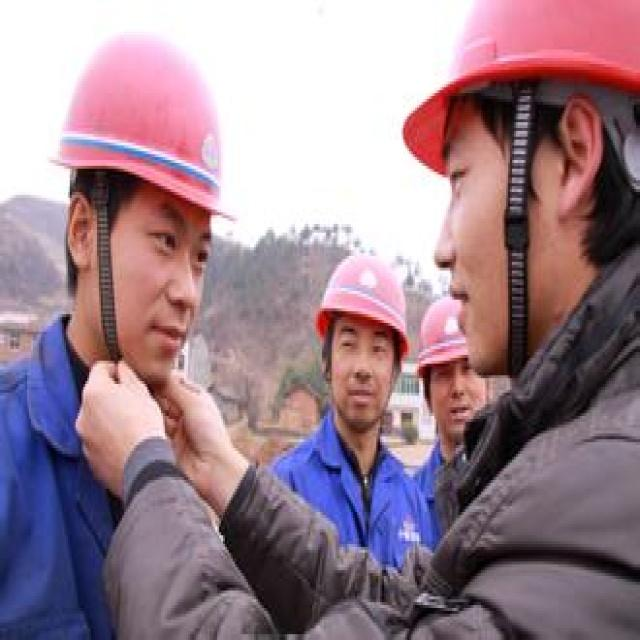helmet: (396, 4, 640, 508), (47, 40, 239, 513), (311, 337, 412, 571), (414, 385, 497, 587)
